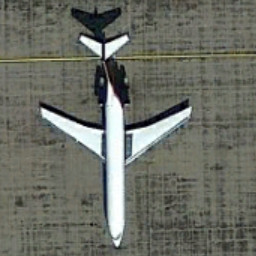Airplane: (26, 25, 202, 256)
